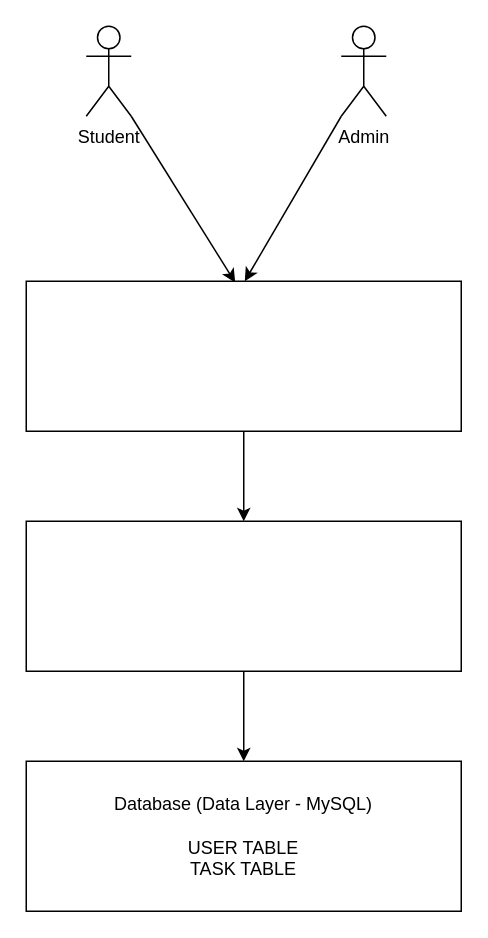
Some shapes in this 488 by 938 pixel diagram are drawn without their labels. Each missing label, with the centre of its shape:
"Backend (Application Layer) Business Logic Authentication Task & User Management" belongs at (x=243, y=595).
"Frontend (Presentation Layer) UI / HTML / CSS / JS" belongs at (x=243, y=355).
